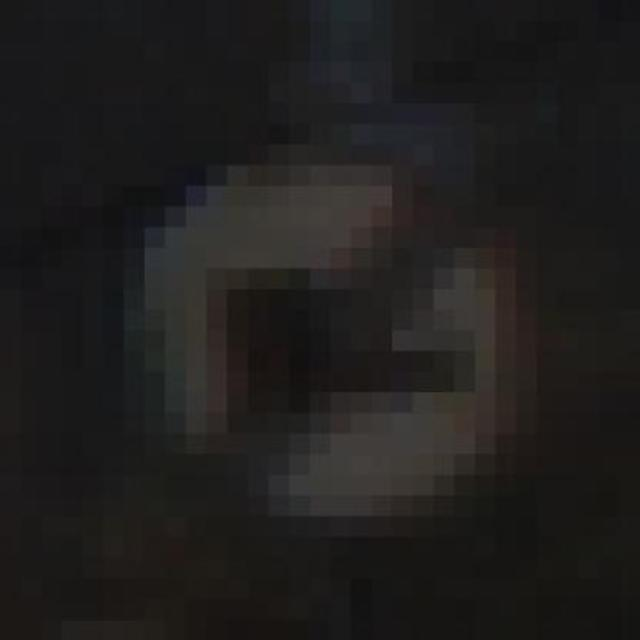Overtaking by trucks is prohibited: (124, 124, 599, 558)
